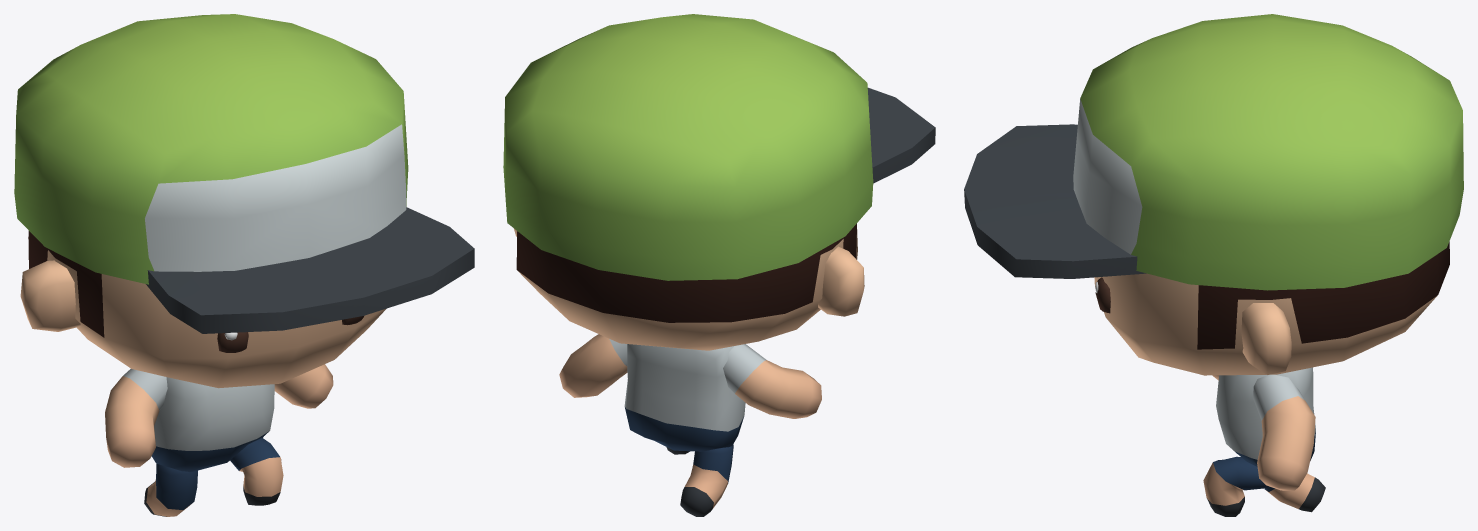
File: run_0016.obj
3 views of the same model, side by side, from view 1: azimuth 30°, elevation 25°; view 2: azimuth 150°, elevation 25°; view 3: azimuth 270°, elevation 25° (orthographic). The views are drawn at different scales.
Parts seen in each view (by area): view 1: Object_41, Object_42, Object_36, Object_44, Object_38; view 2: Object_41, Object_36, Object_44, Object_42; view 3: Object_41, Object_36, Object_42, Object_44.
Part boxes in pixels (x1=…): Object_41: x1=14, y1=14, x2=408, y2=284; Object_42: x1=145, y1=124, x2=474, y2=333; Object_36: x1=20, y1=230, x2=386, y2=388; Object_44: x1=105, y1=364, x2=333, y2=516; Object_38: x1=217, y1=316, x2=363, y2=352; Object_41: x1=503, y1=14, x2=873, y2=280; Object_36: x1=514, y1=223, x2=864, y2=350; Object_44: x1=559, y1=334, x2=821, y2=516; Object_42: x1=867, y1=87, x2=935, y2=183; Object_41: x1=1080, y1=14, x2=1463, y2=290; Object_36: x1=1094, y1=241, x2=1449, y2=375; Object_42: x1=964, y1=99, x2=1146, y2=278; Object_44: x1=1203, y1=367, x2=1325, y2=516.
Bounding box in the file's own units: 0.9691 × 1.19 × 1.13.
